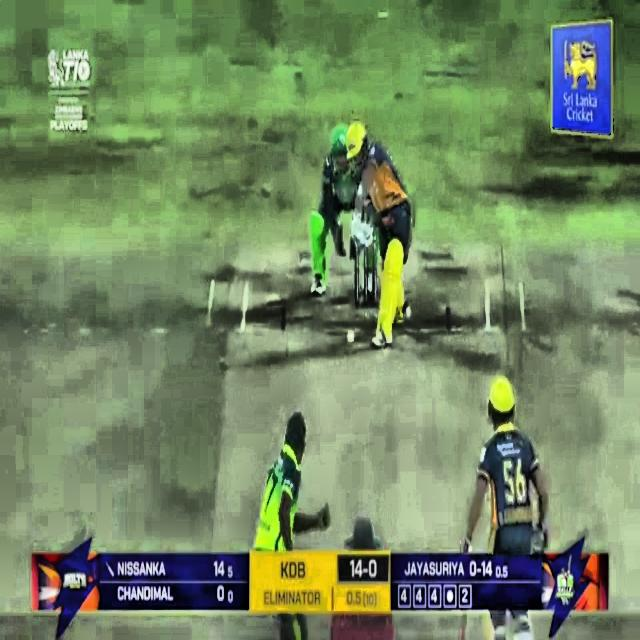Left-stump: (355, 247, 359, 307)
Middle-stump: (363, 247, 368, 308)
Right-stump: (371, 248, 376, 303)
